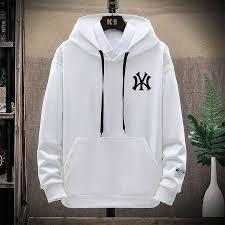sweater: (40, 21, 181, 210)
